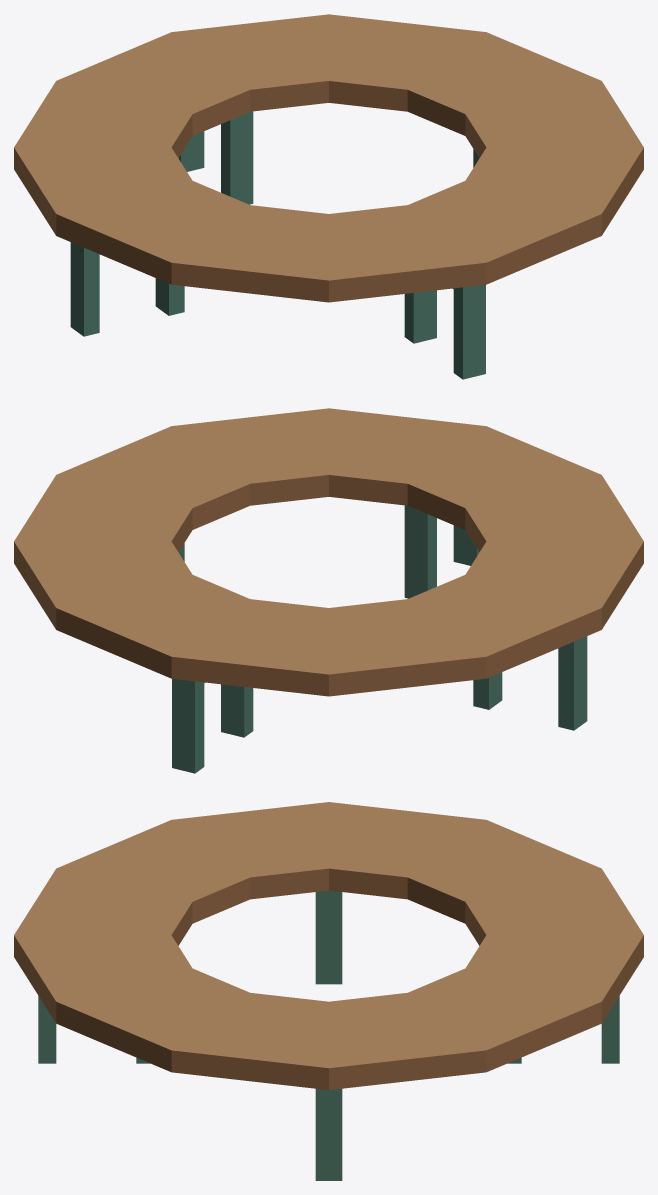
3 views of the same model, one above another, from view 1: azimuth 30°, elevation 25°; view 2: azimuth 150°, elevation 25°; view 3: azimuth 270°, elevation 25° (orthographic).
Visible parts, largest first — view 1: ContinuousTwelveSidedAnnularSeat, SouthRadialOpenTrestle, NorthRadialOpenTrestle, WestRadialOpenTrestle; view 2: ContinuousTwelveSidedAnnularSeat, NorthRadialOpenTrestle, SouthRadialOpenTrestle, WestRadialOpenTrestle; view 3: ContinuousTwelveSidedAnnularSeat, WestRadialOpenTrestle, EastRadialOpenTrestle, NorthRadialOpenTrestle, SouthRadialOpenTrestle.
Part boxes in pixels (x1,y1,x2,y2): ContinuousTwelveSidedAnnularSeat: (14, 14, 643, 302); SouthRadialOpenTrestle: (404, 284, 485, 379); NorthRadialOpenTrestle: (178, 111, 253, 204); WestRadialOpenTrestle: (70, 242, 184, 336); ContinuousTwelveSidedAnnularSeat: (14, 408, 643, 696); NorthRadialOpenTrestle: (172, 678, 253, 773); SouthRadialOpenTrestle: (404, 505, 479, 598); WestRadialOpenTrestle: (473, 636, 587, 730); ContinuousTwelveSidedAnnularSeat: (14, 802, 643, 1089); WestRadialOpenTrestle: (315, 890, 342, 984); EastRadialOpenTrestle: (315, 1088, 342, 1180); NorthRadialOpenTrestle: (508, 996, 619, 1063); SouthRadialOpenTrestle: (38, 996, 149, 1063).
Bounding box in the file's own units: 2.6 × 0.56 × 2.6.
